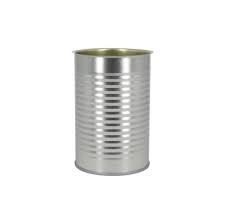can: (68, 43, 157, 179)
